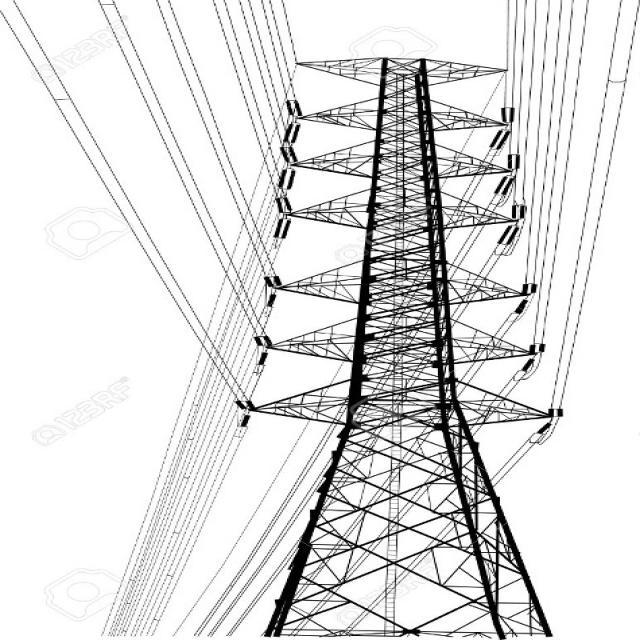non-critical vegetation: (286, 38, 542, 588)
